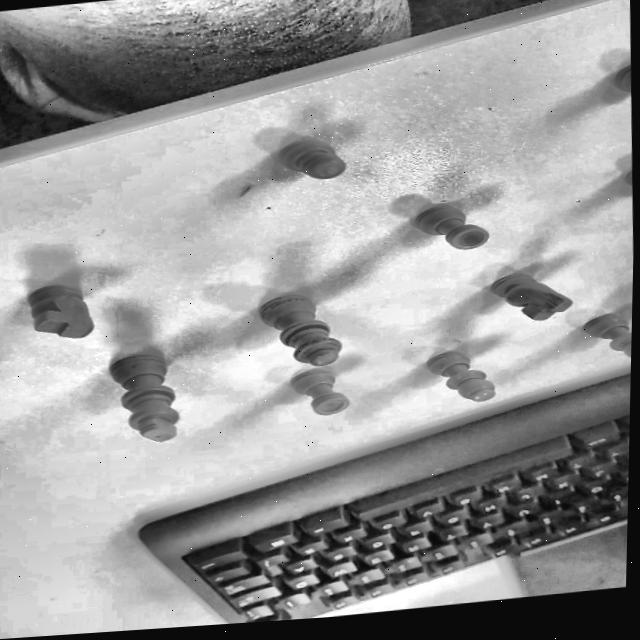white-bishop: (419, 334, 509, 409), (573, 314, 632, 376)
white-king: (83, 341, 218, 466)
white-knight: (486, 263, 588, 331), (7, 274, 102, 347)
white-pawn: (272, 115, 380, 190)
white-queen: (256, 280, 359, 370)
white-rook: (394, 188, 512, 263), (286, 364, 353, 426)
